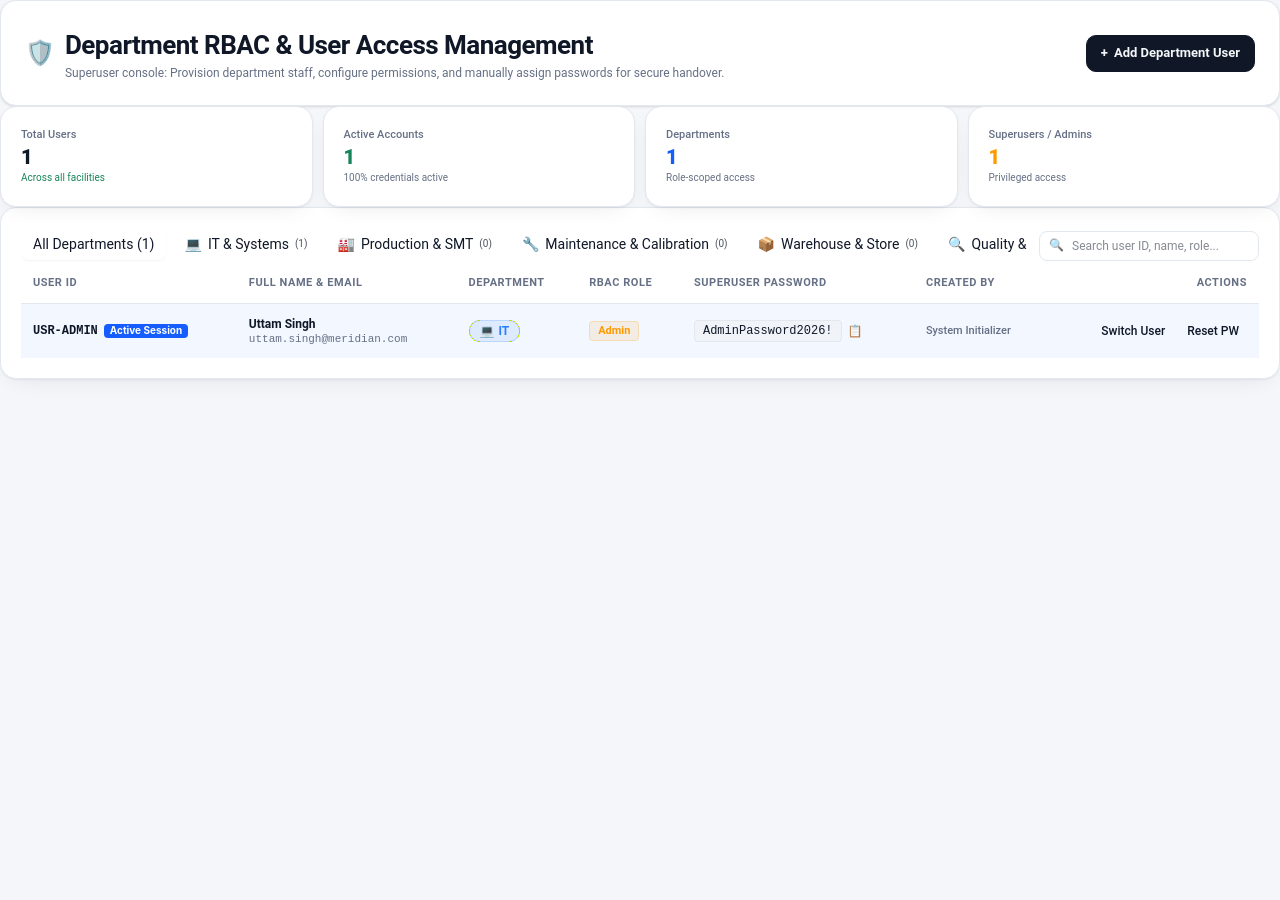
Scenario: Department RBAC & User Management Specification › Superuser adds new user with department and manually specified password (no random password)
The width and height of the screenshot is (1280, 900).
Step 1. Click the button "+ Add Department User" → (1170, 53), box [1086,35,1255,72]
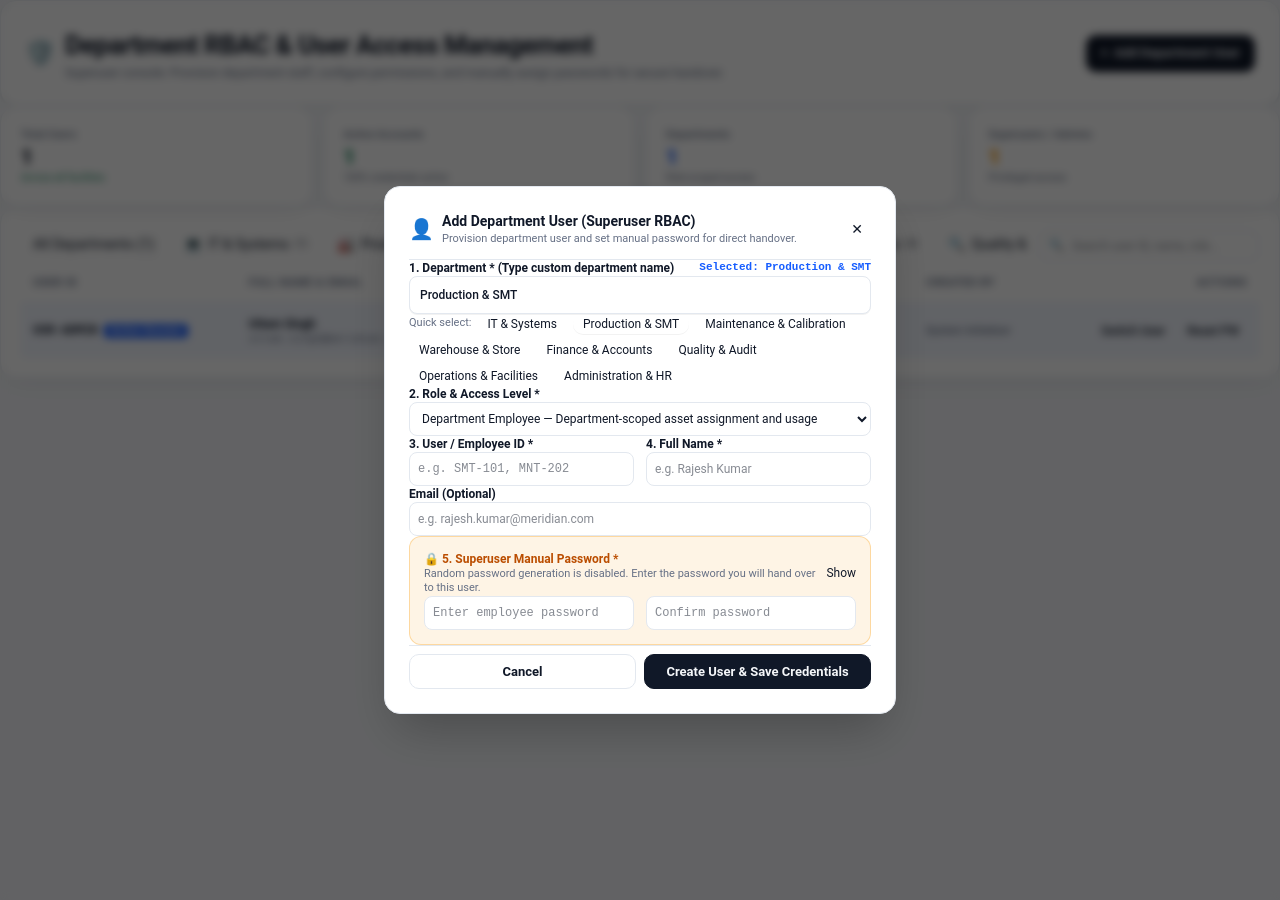
Check: the heading "Add Department User (Superuser RBAC)" is shown, box [442,213,696,229]
Check: the text "Random password generation is disabled" is shown, box [424,567,816,594]
Fill form
Step 2. Type "SMT-NEW-99" into the field with placeholder "e.g. SMT-101, MNT-202" → (522, 469), box [409,452,634,486]
Step 3. Type "Deepak Sharma" into the field with placeholder "e.g. Rajesh Kumar" → (758, 469), box [646,452,871,486]
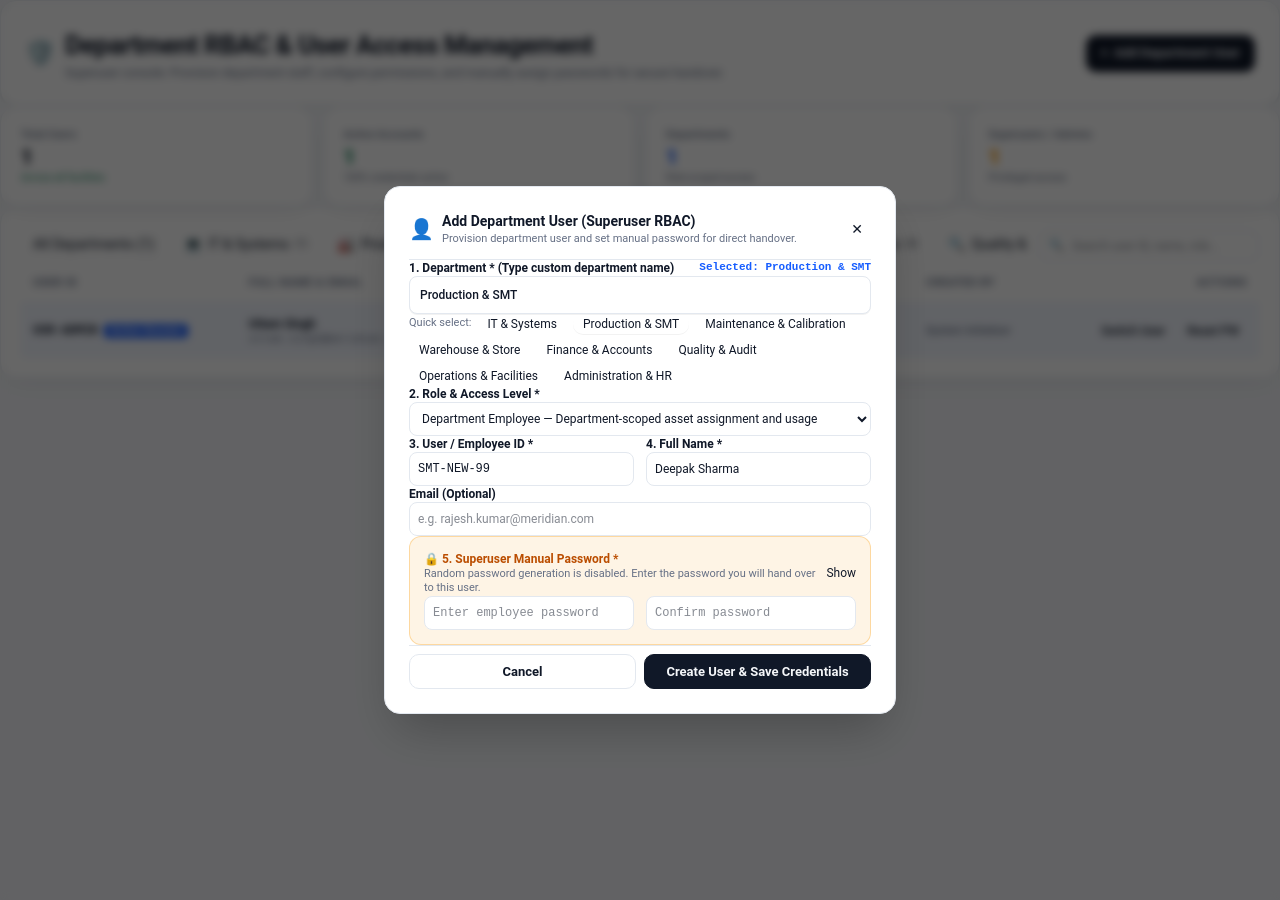
Type custom department into the typable input field
Step 4. Replace the text in the field with placeholder "Type department" below "Selected:" with "SMT Line 2 Robotics" → (640, 295), box [409,276,871,314]
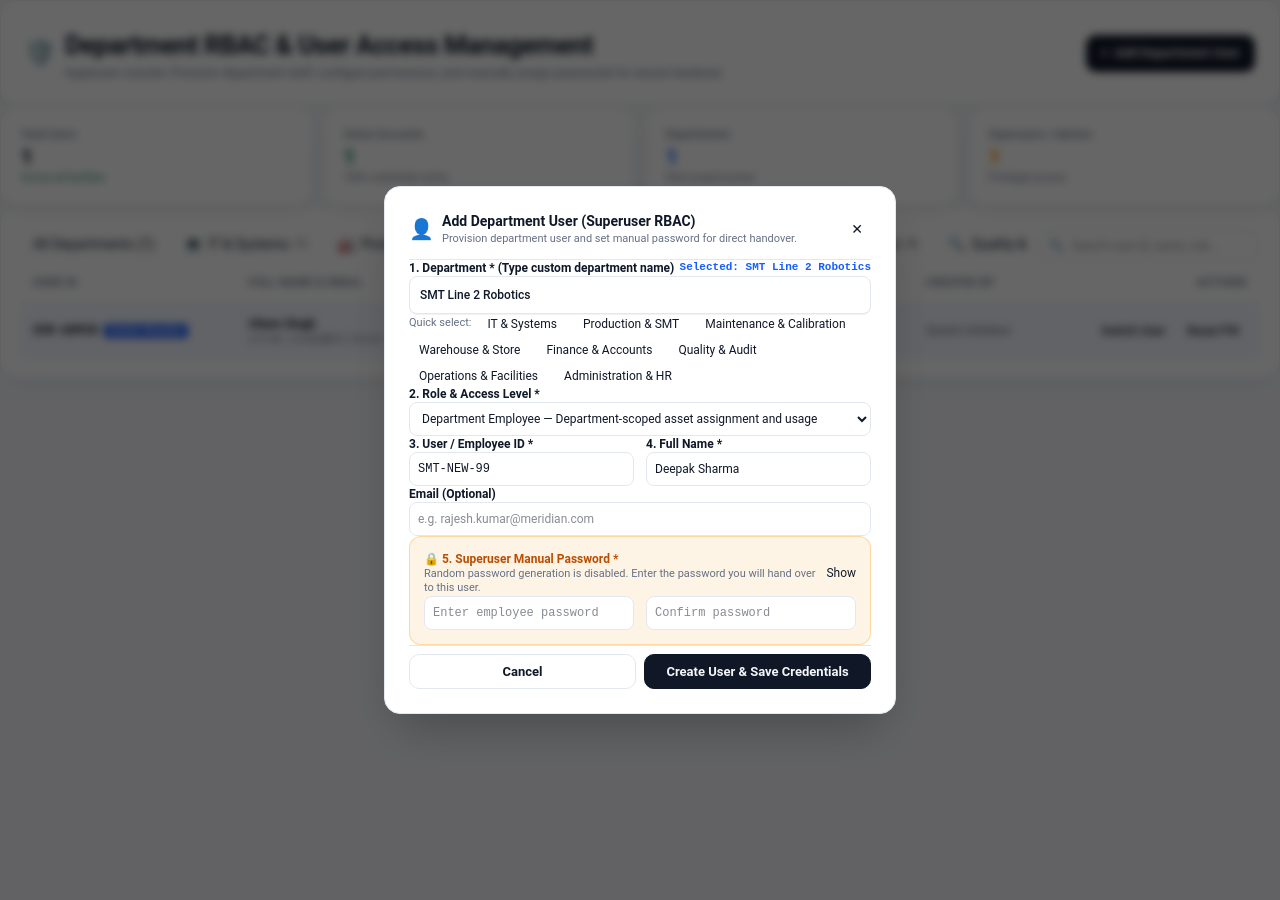
Manual password input (Superuser explicitly provides credential)
Step 5. Type "SuperManualPass2026#" into the password field with placeholder "Enter employee password" → (529, 613), box [424,596,634,630]
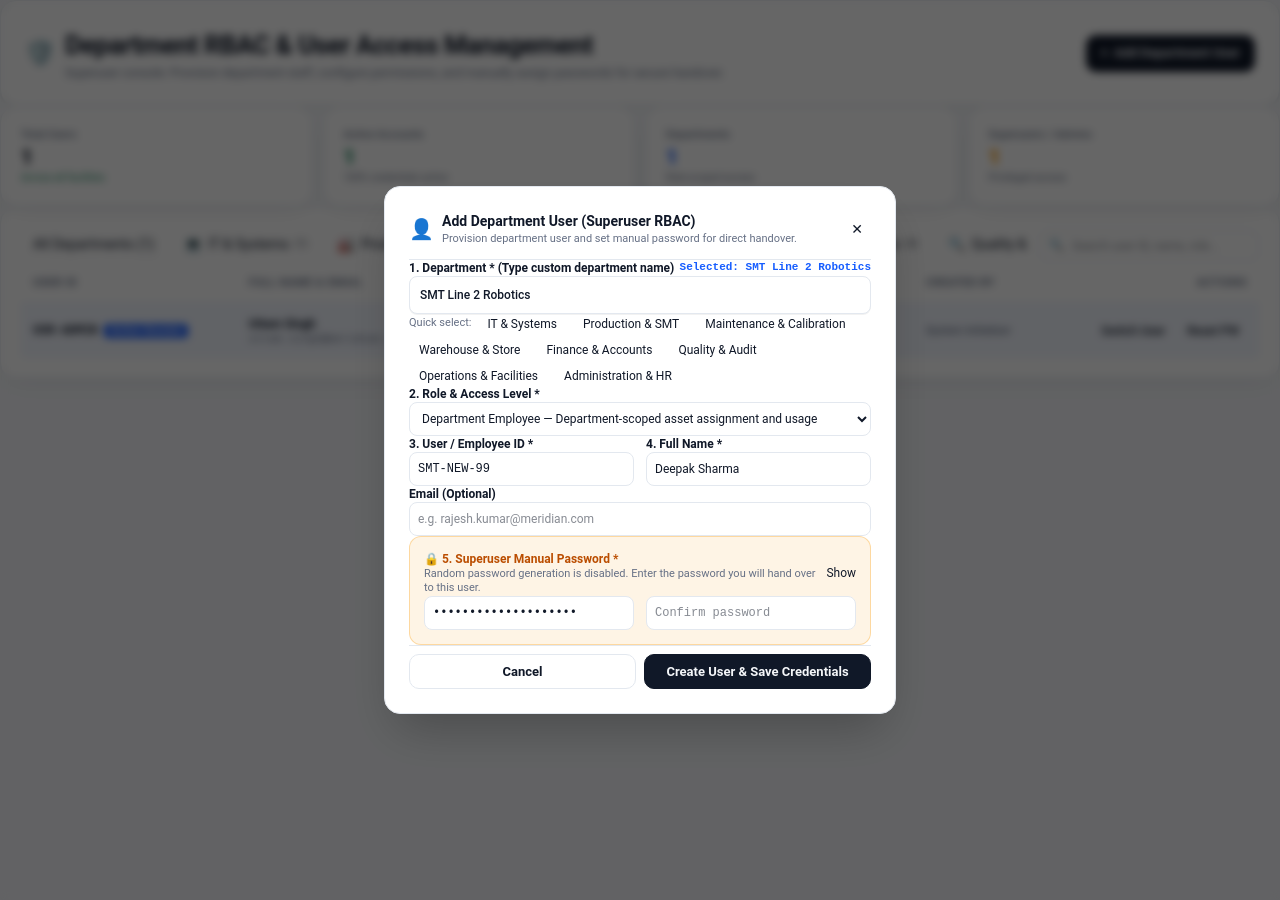
Step 6. Type "SuperManualPass2026#" into the password field with placeholder "Confirm password" → (751, 613), box [646,596,856,630]
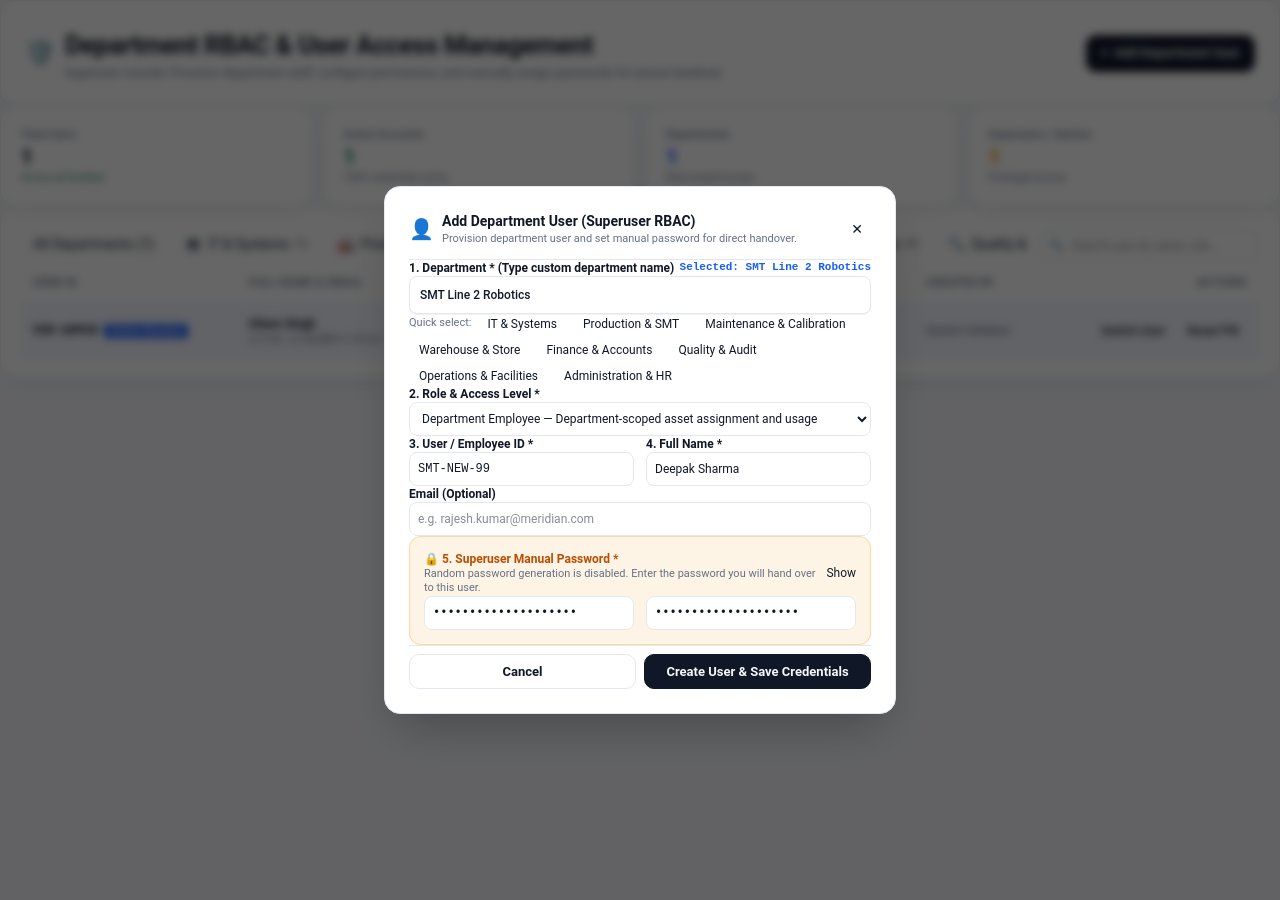
Submit form
Step 7. Click the button "Create User & Save Credentials" → (758, 672), box [644,654,871,689]
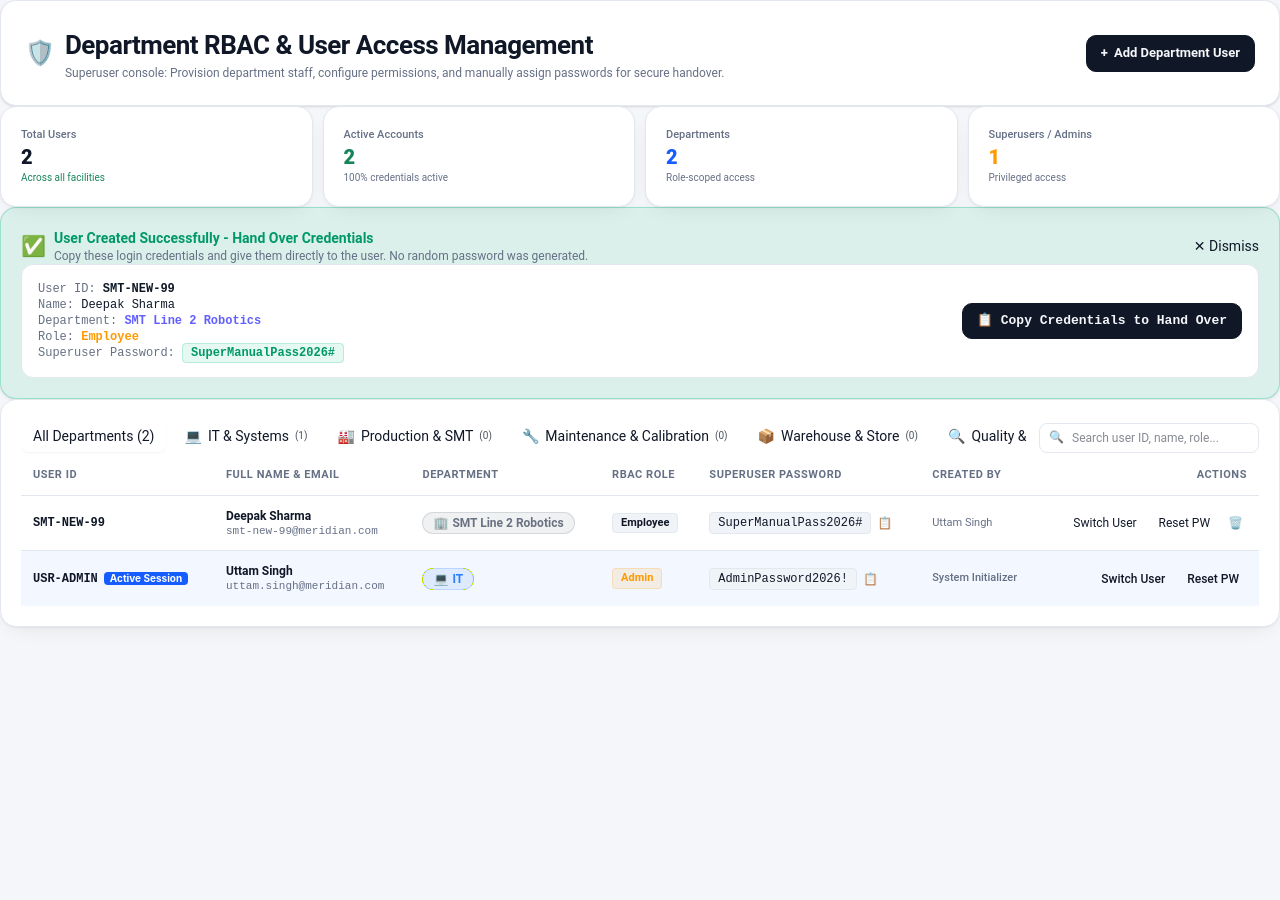
Check: the heading "User Created Successfully - Hand Over Credentials" is shown, box [54,230,374,246]
Check: the button "📋 Copy Credentials to Hand Over" is shown, box [962,303,1242,338]
